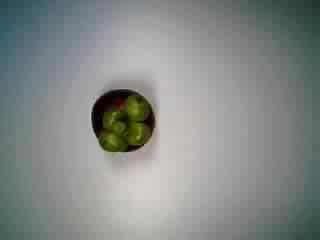mangosteen: (87, 82, 161, 156)
